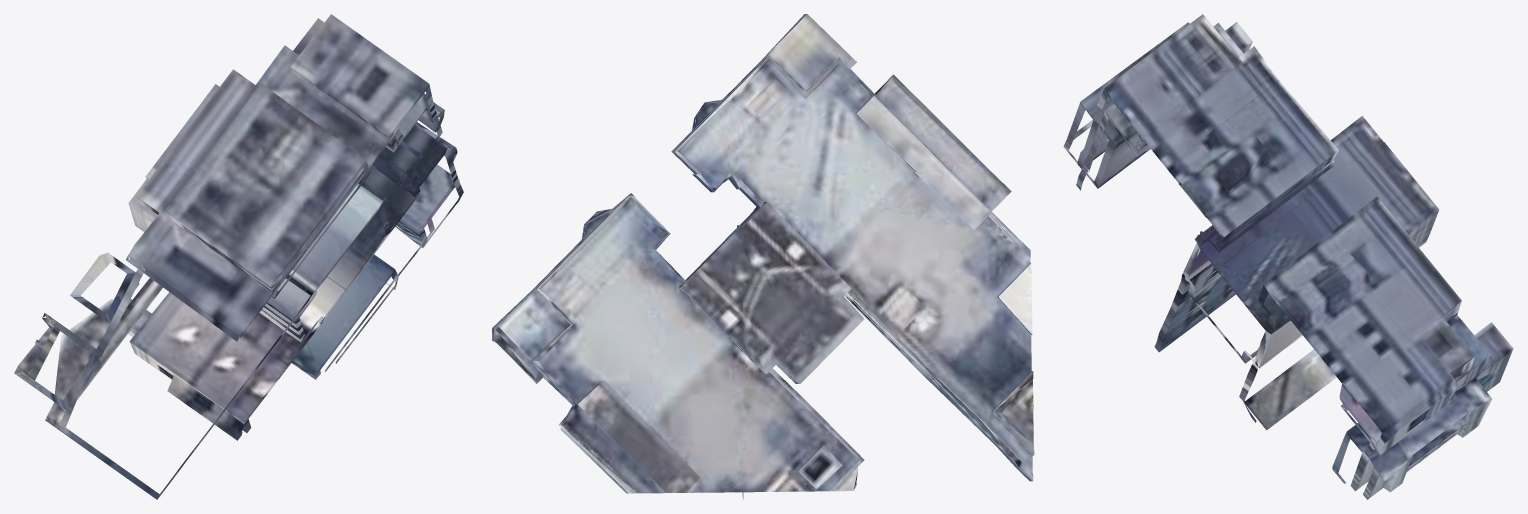
3 views of the same model, side by side, from view 1: azimuth 30°, elevation 25°; view 2: azimuth 150°, elevation 25°; view 3: azimuth 270°, elevation 25° (orthographic). The views are drawn at different scales.
Size of the model in its own units: 34.65 by 29.26 by 26.74.
2 materials, 2 textured.
